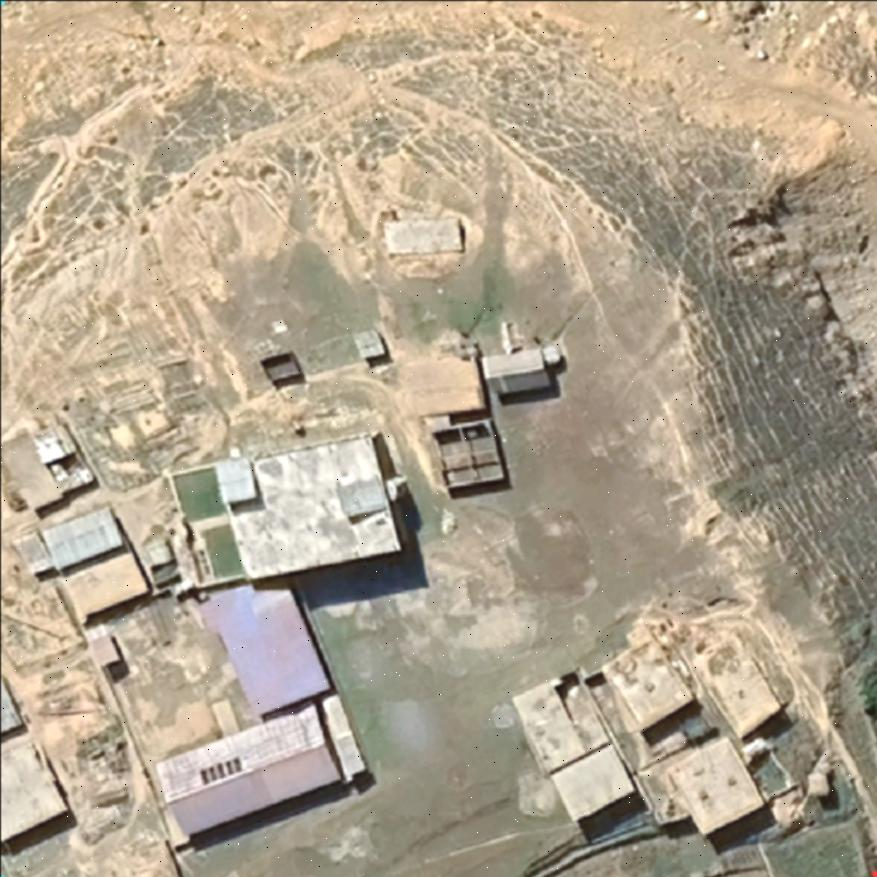Solarpanel: (196, 753, 246, 787)
